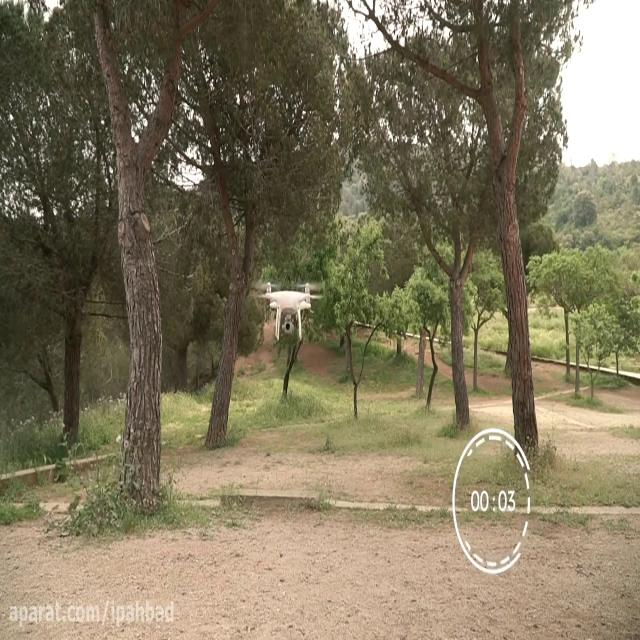drone: (254, 276, 326, 342)
